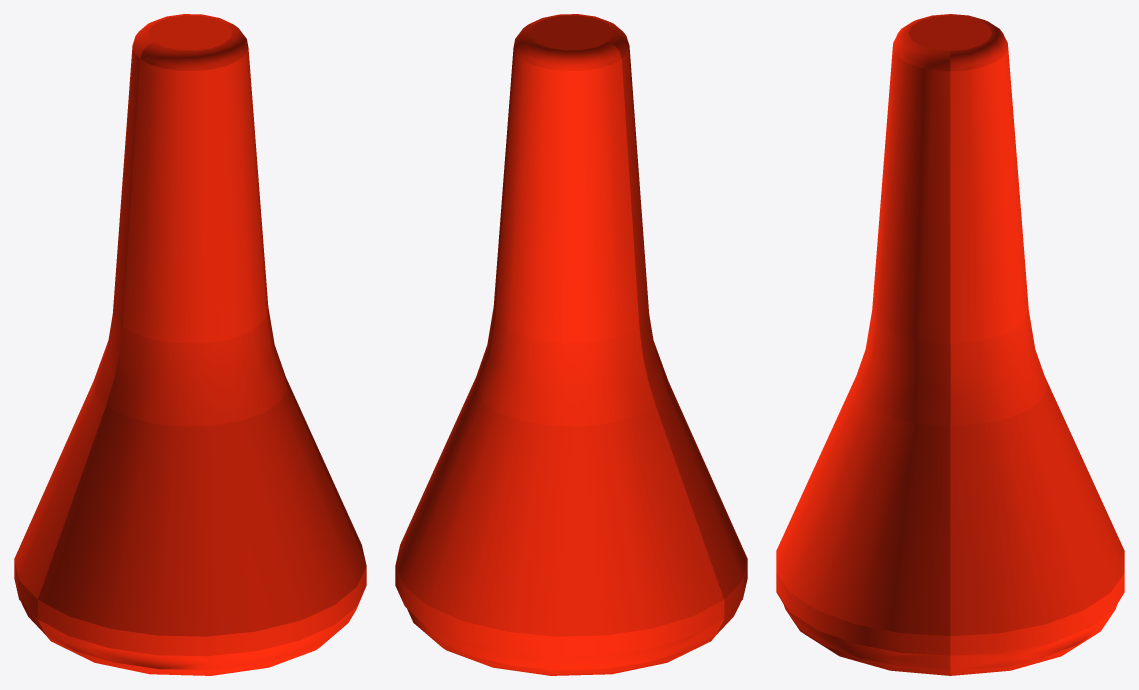
File: adjustable_tool_tip.obj
3 renders of one model, left to right at view 1: azimuth 30°, elevation 25°; view 2: azimuth 150°, elevation 25°; view 3: azimuth 270°, elevation 25°, orthographic.
Size of the model in its own units: 0.0165 by 0.03 by 0.0164.
